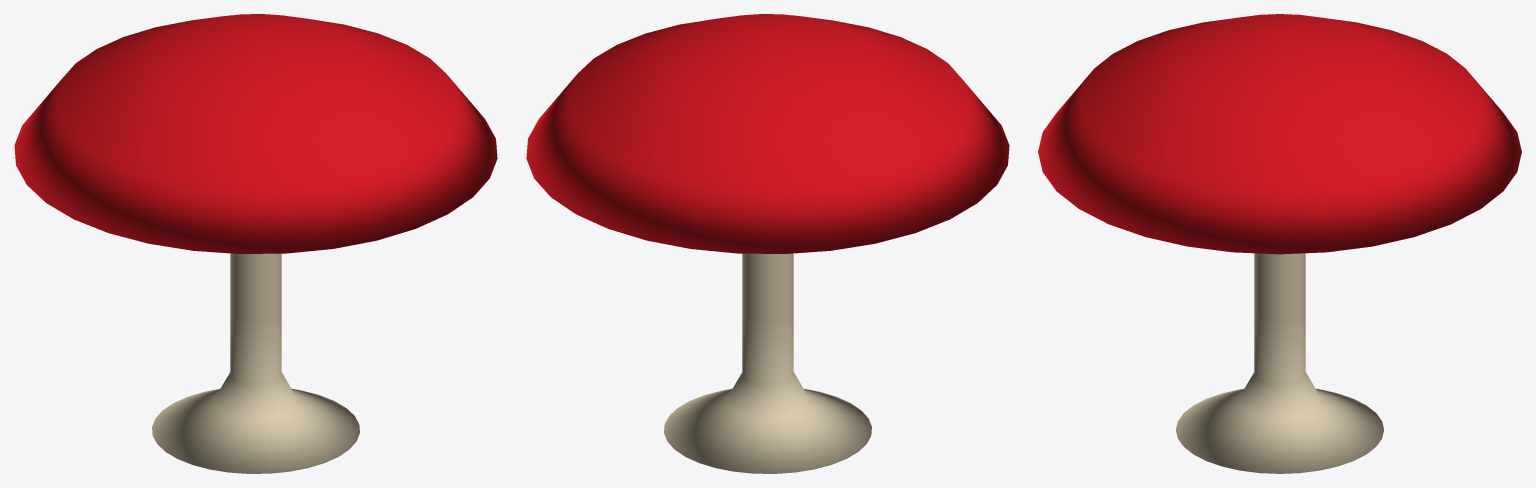
The model's file is champi14.fbx.
The picture shows the model from 3 angles, left to right: view 1: azimuth 30°, elevation 25°; view 2: azimuth 150°, elevation 25°; view 3: azimuth 270°, elevation 25°; orthographic projection.
Parts seen in each view (by area): view 1: Cylinder; view 2: Cylinder; view 3: Cylinder.
Part boxes in pixels (x1,y1,x2,y2): Cylinder: (14,14,497,473); Cylinder: (526,14,1009,473); Cylinder: (1038,14,1521,473).
Size of the model in its own units: 92.88 by 82.64 by 92.88.
